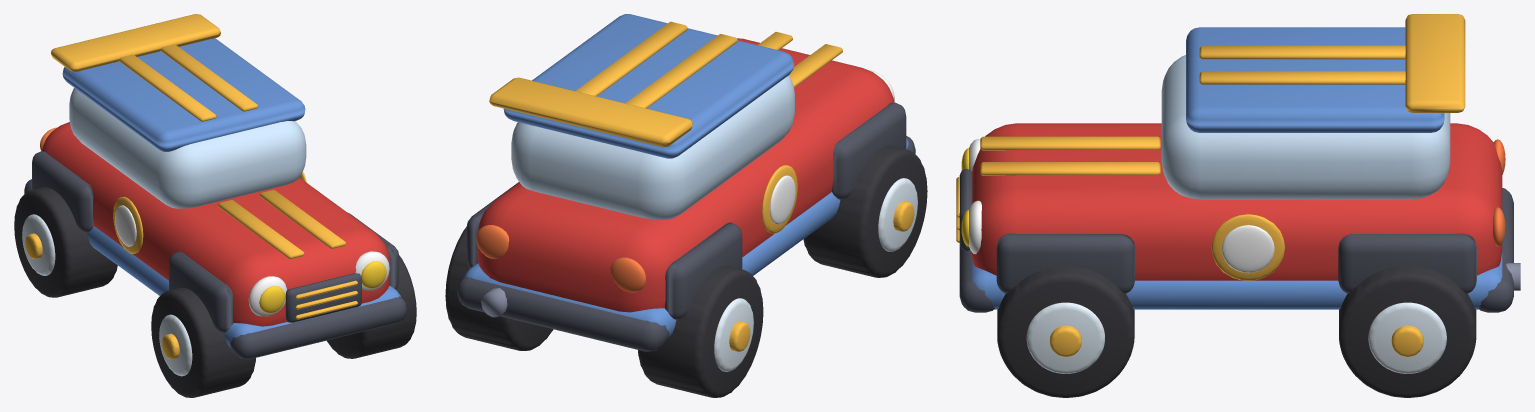
The model's file is toy-zipper.glb.
3 renders of one model, left to right at view 1: azimuth 30°, elevation 25°; view 2: azimuth 150°, elevation 25°; view 3: azimuth 270°, elevation 25°, orthographic. The views are drawn at different scales.
Parts seen in each view (by area): view 1: body, wheel-back-right, wheel-front-right, spoiler, wheel-front-left, grill; view 2: body, wheel-back-right, wheel-front-right, spoiler, wheel-back-left; view 3: body, wheel-back-left, wheel-front-left, spoiler, grill.
Part boxes in pixels (box(x1,y1,x2,y2)): body: box(24, 38, 406, 359); wheel-back-right: box(14, 187, 117, 297); wheel-front-right: box(151, 287, 255, 397); spoiler: box(51, 14, 220, 71); wheel-front-left: box(327, 255, 416, 358); grill: box(285, 273, 361, 322); body: box(457, 14, 915, 351); wheel-back-right: box(638, 266, 763, 397); wheel-front-right: box(803, 145, 927, 277); spoiler: box(489, 77, 692, 147); wheel-back-left: box(445, 227, 553, 350); body: box(959, 27, 1520, 312); wheel-back-left: box(1339, 266, 1476, 397); wheel-front-left: box(997, 266, 1134, 397); spoiler: box(1405, 14, 1465, 112); grill: box(956, 169, 972, 250).
Bounding box in the file's own units: 1.46 × 1.33 × 2.45.
Materials: 1 (1 with a texture image).
